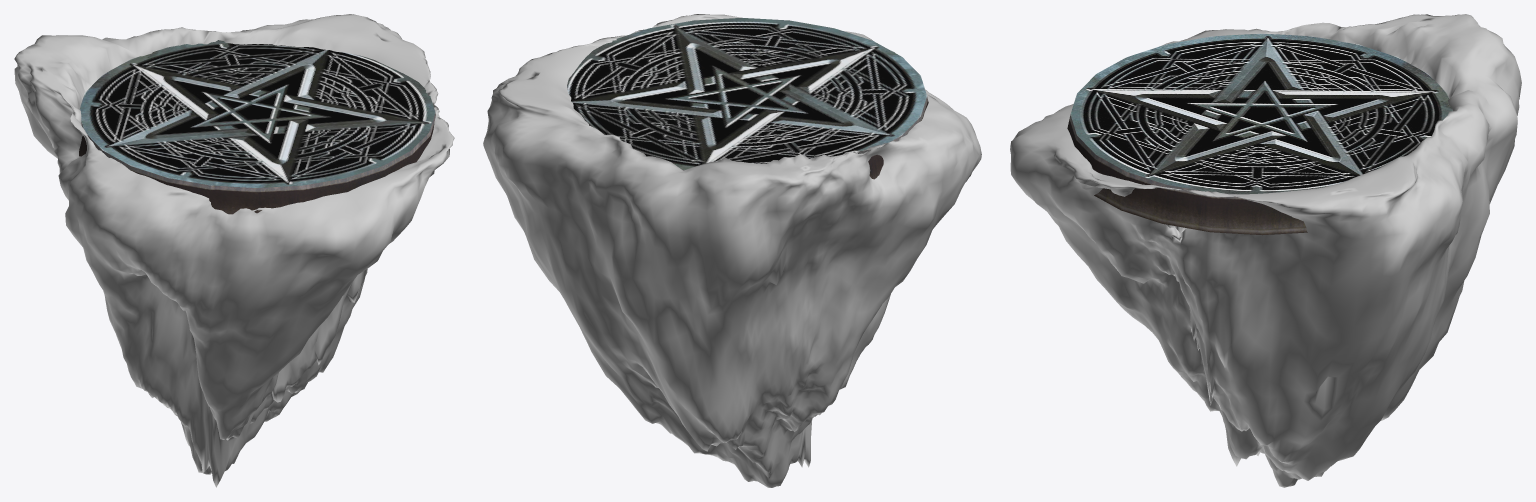
Rendered from arena_hell.FBX.
3 views of the same model, side by side, from view 1: azimuth 30°, elevation 25°; view 2: azimuth 150°, elevation 25°; view 3: azimuth 270°, elevation 25° (orthographic). The views are drawn at different scales.
Visible parts, largest first — view 1: Rock001, Cone002; view 2: Rock001, Cone002; view 3: Rock001, Cone002.
Boxes of the visible parts, x1,y1,x2,y2 form: Rock001: (14, 14, 454, 487); Cone002: (79, 40, 435, 214); Rock001: (483, 14, 981, 487); Cone002: (567, 17, 928, 179); Rock001: (1010, 14, 1521, 487); Cone002: (1067, 33, 1452, 235).
Size of the model in its own units: 118 by 115 by 128.
